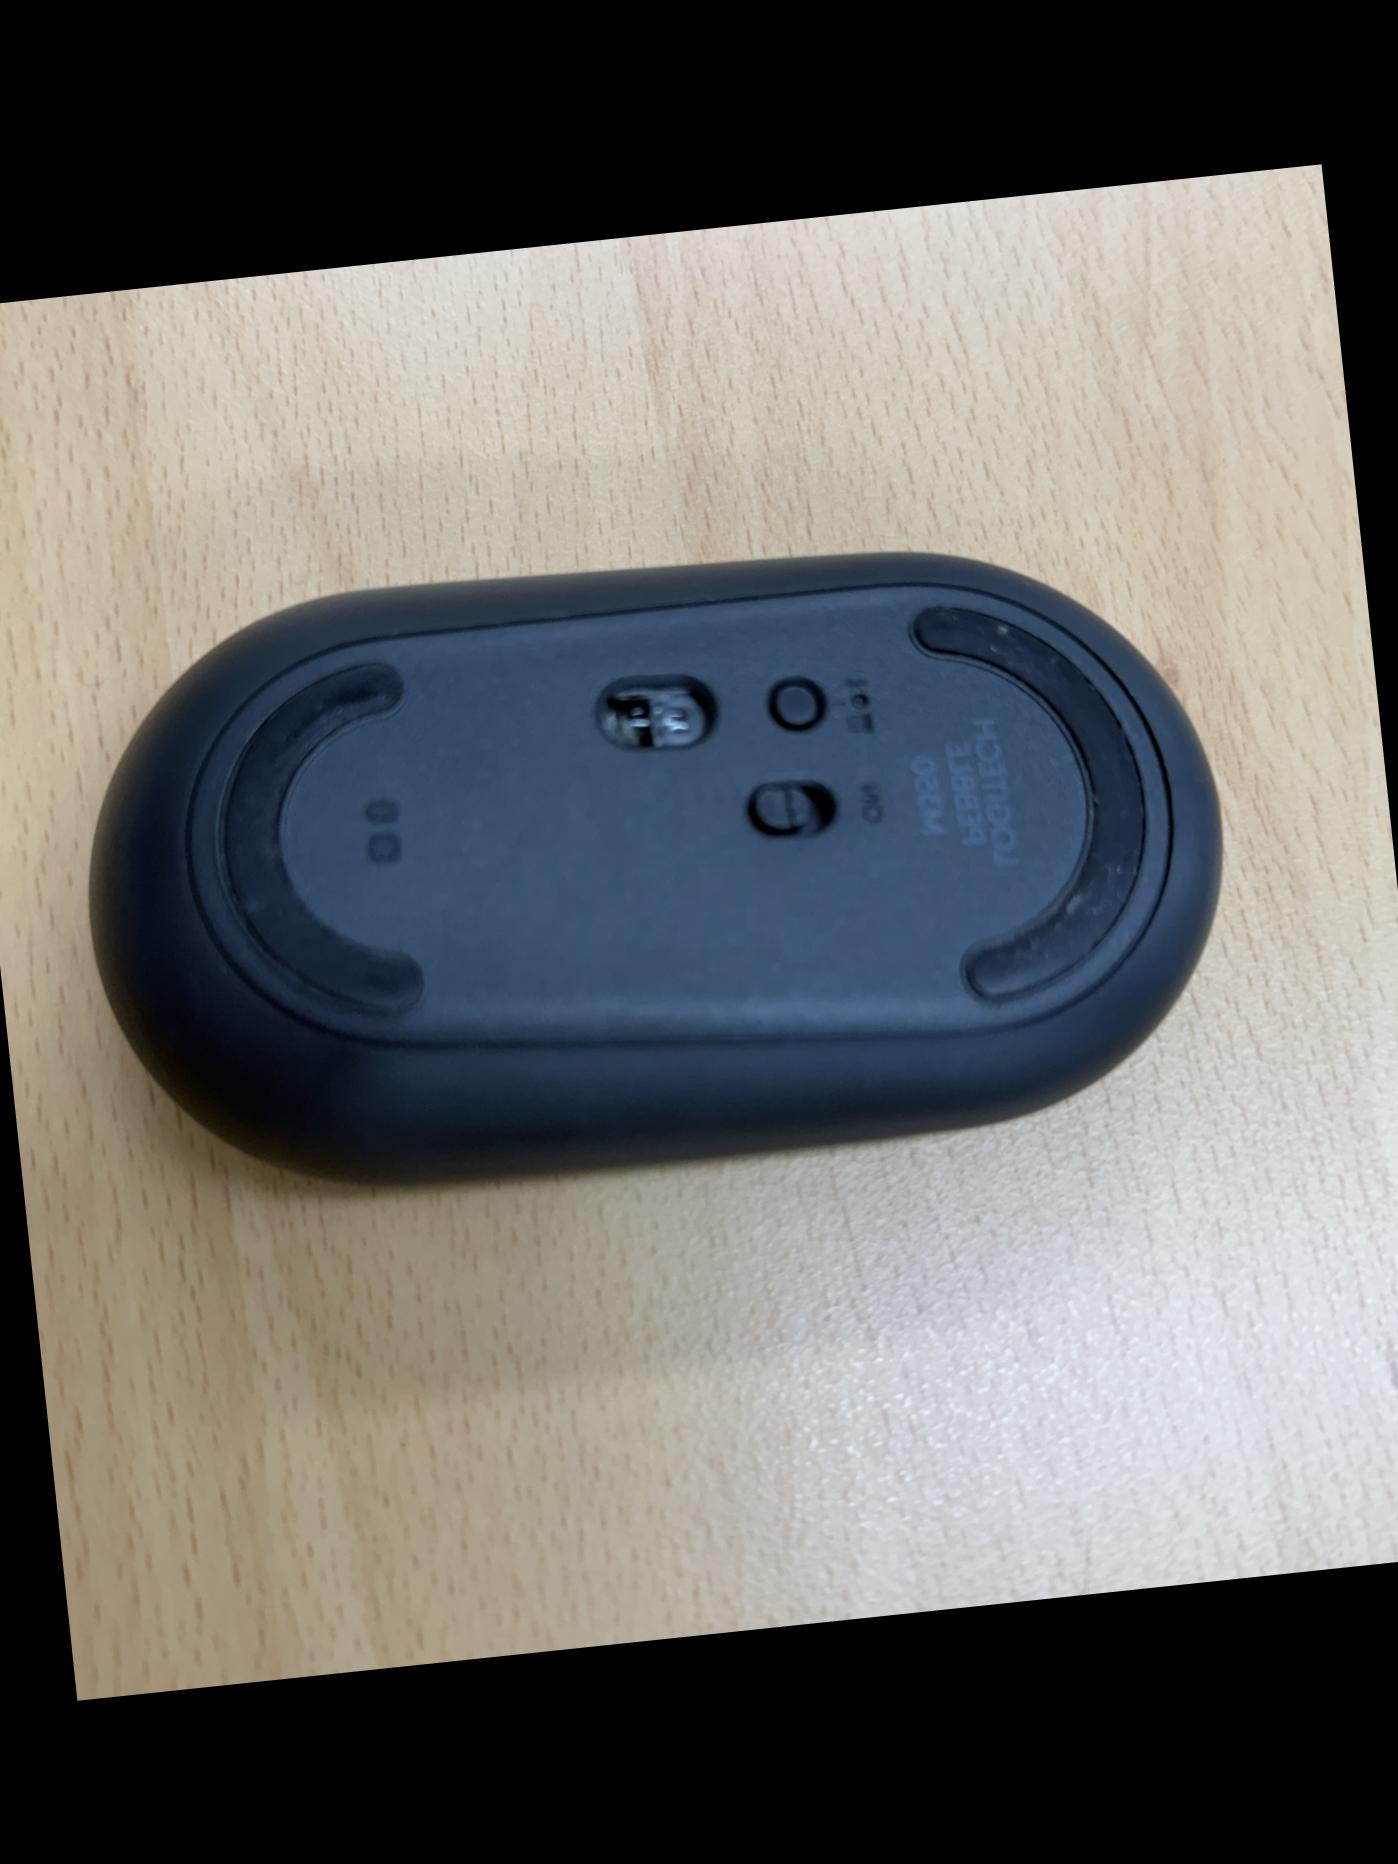back: (48, 498, 1258, 1230)
